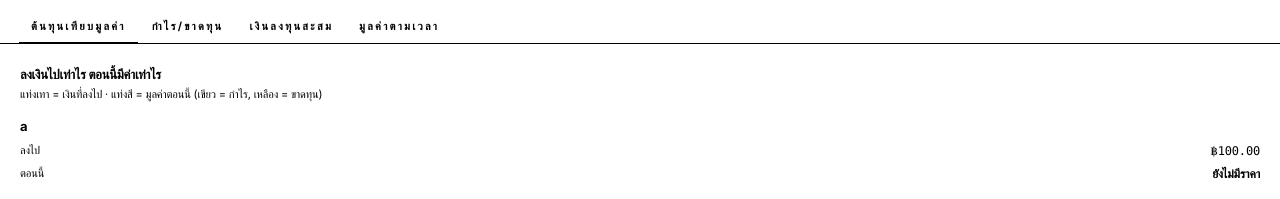
Test: CostVsValue invested tab › no trades at all: a message
The width and height of the screenshot is (1280, 199).
Click the tab "เงินลงทุนสะสม".
click(291, 28)  # box [237, 12, 345, 44]
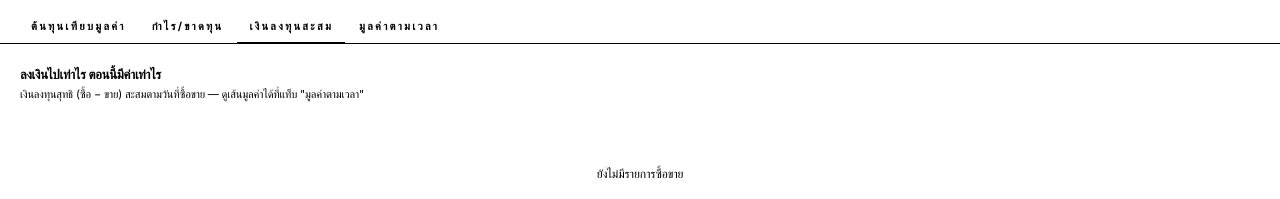
Expected: the text "ยังไม่มีรายการซื้อขาย" is shown, [597, 166, 683, 182]
